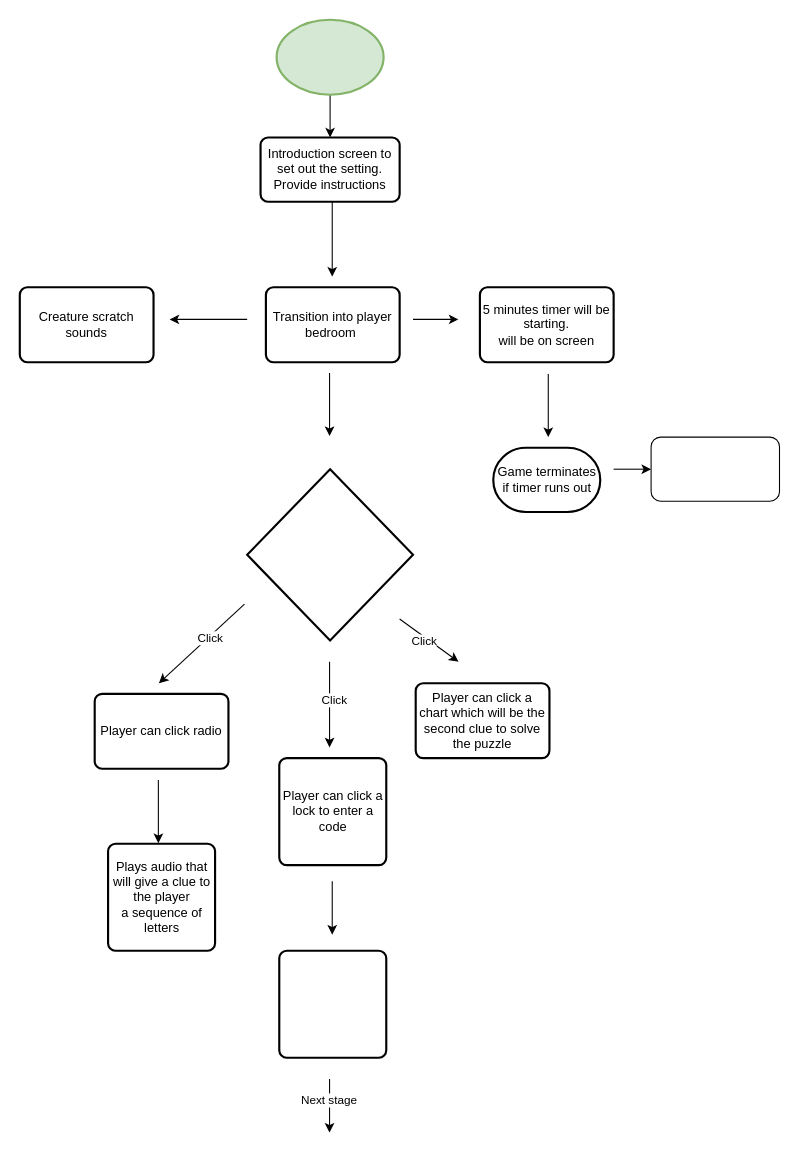
The diagram is 798 pixels wide and 1160 high, and some of its shapes have lost their labels. Here are the shapes that lost their labels. From the top down, the centre of each, then its label:
At pixel 329 56: "Start".
At pixel 714 468: "A specific outro screen".
At pixel 330 554: "Player decision to interact with environment".
At pixel 332 1003: "Once correct code is entered - we have escaped or next screen".
